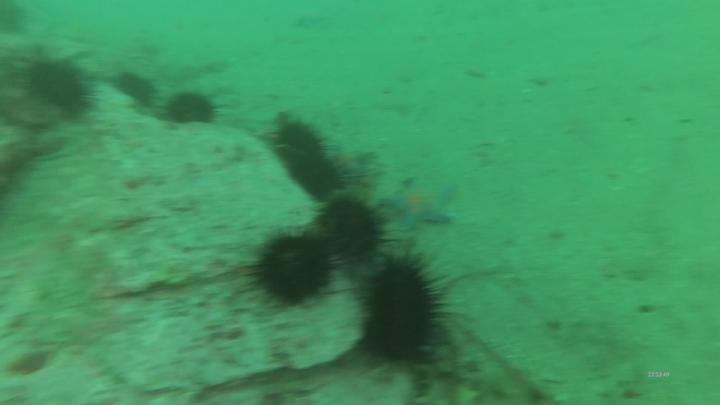echinus: (376, 262, 436, 360), (262, 237, 326, 294), (329, 203, 378, 258), (31, 62, 83, 108), (270, 117, 319, 157), (293, 160, 337, 195), (171, 94, 216, 125), (121, 75, 156, 107)
holothurian: (416, 336, 448, 405)
starfish: (389, 185, 454, 229)
